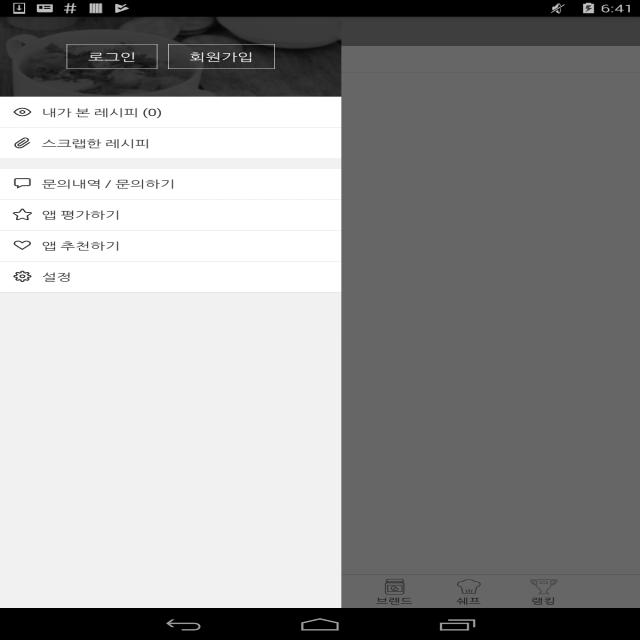ImageView: (0, 16, 341, 96), (9, 103, 36, 121), (9, 134, 36, 152), (156, 578, 184, 595), (231, 578, 259, 595), (380, 578, 408, 595), (455, 578, 483, 595), (82, 578, 109, 595), (306, 578, 333, 595), (530, 578, 557, 595), (9, 175, 36, 192), (9, 206, 36, 223), (9, 237, 36, 254), (9, 268, 36, 285), (13, 25, 35, 38), (5, 53, 27, 66)
TextView: (48, 17, 592, 46), (32, 54, 635, 66), (36, 168, 184, 199), (36, 96, 171, 128), (36, 128, 158, 158), (36, 199, 129, 230), (36, 230, 129, 261), (168, 44, 275, 69), (67, 44, 157, 69), (36, 261, 80, 292), (60, 595, 131, 608), (284, 595, 355, 608), (508, 595, 579, 608), (135, 595, 205, 608), (210, 595, 280, 608), (359, 595, 429, 608), (434, 595, 504, 608)
